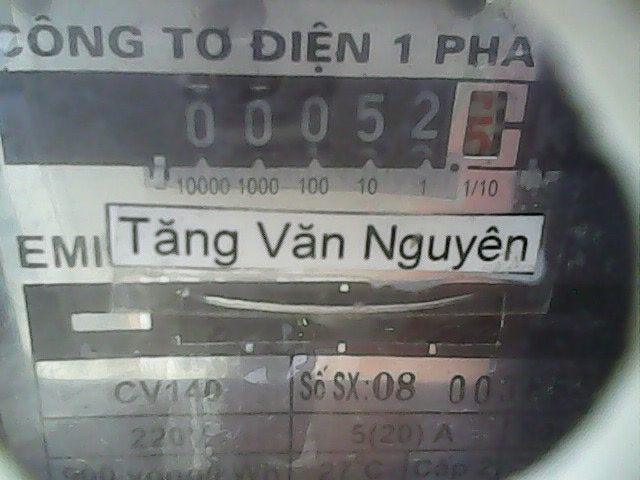phy_plate: (161, 68, 536, 176)
